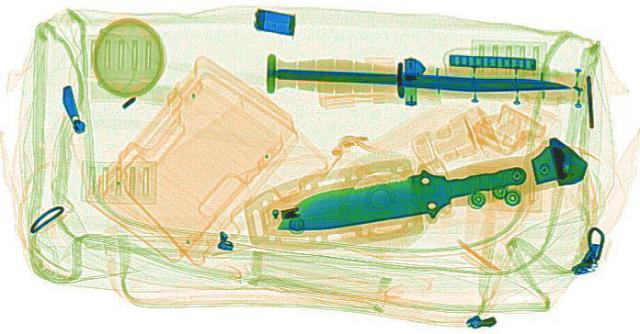Knife: (255, 156, 540, 236), (268, 66, 570, 93)
